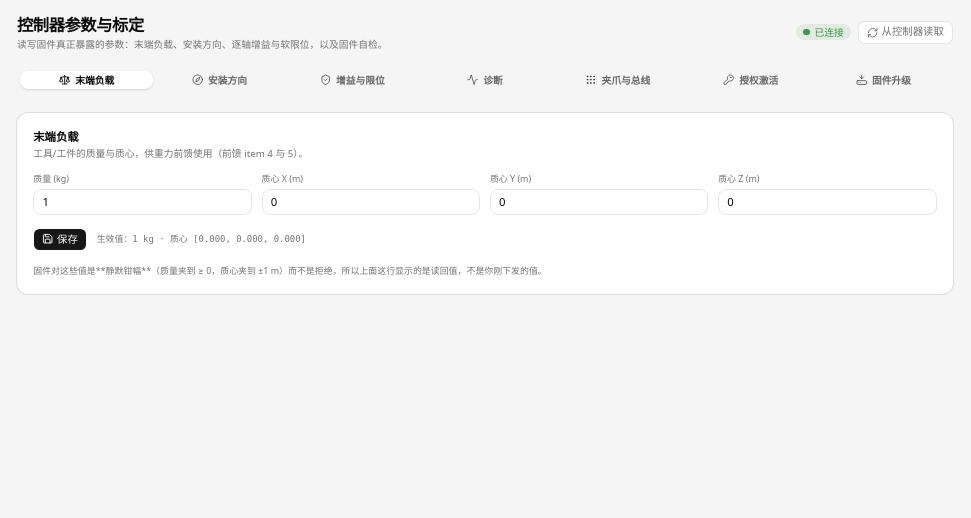
Test case: SettingsPage axis scaling › still renders every joint row and field on a seven-axis arm
Expected: the number field showing "1" is shown, [33, 189, 252, 215]
Press the mouse on the tab "增益与限位" at (352, 80), box [286, 71, 419, 90]
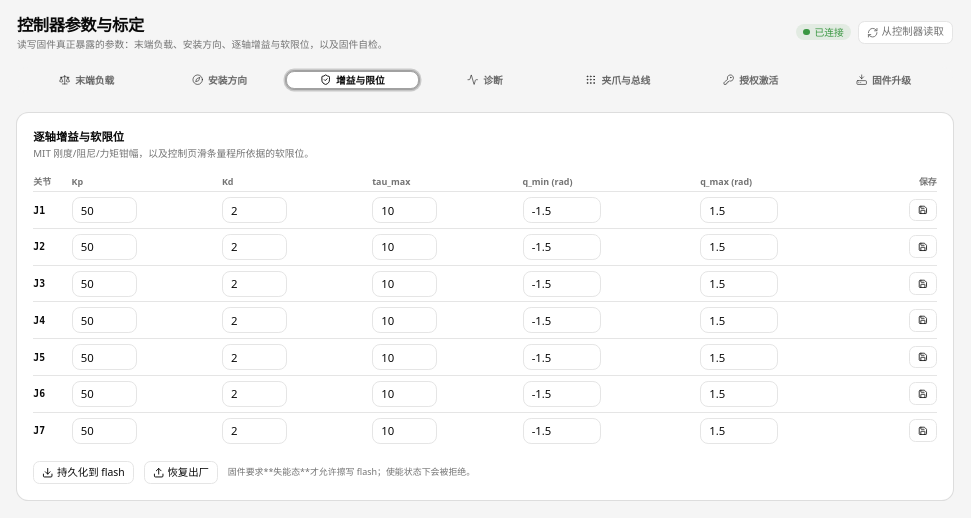
Expected: the number of rows is 8
Expected: the text "J7" is shown once, [33, 412, 72, 448]
